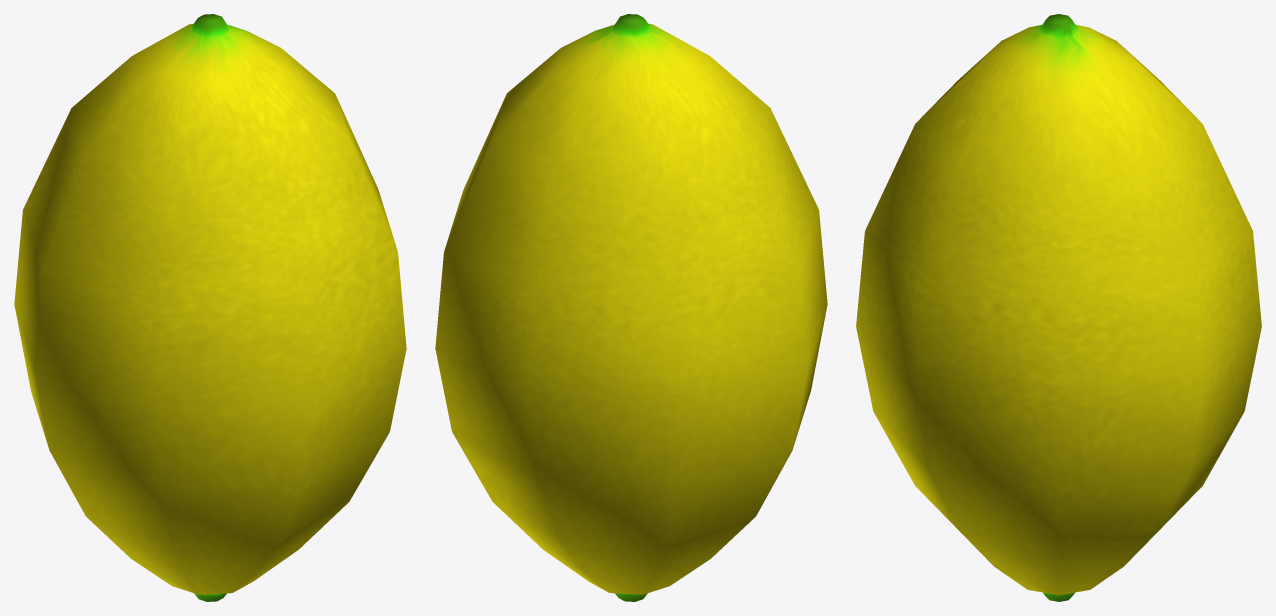
Rendered from Lemon.fbx.
3 renders of one model, left to right at view 1: azimuth 30°, elevation 25°; view 2: azimuth 150°, elevation 25°; view 3: azimuth 270°, elevation 25°, orthographic.
Parts seen in each view (by area): view 1: pSphere1; view 2: pSphere1; view 3: pSphere1.
Boxes of the visible parts, x1,y1,x2,y2 form: pSphere1: (14, 14, 406, 601); pSphere1: (435, 14, 827, 601); pSphere1: (856, 14, 1261, 601).
Bounding box in the file's own units: 536 × 842 × 536.
1 material, 1 textured.
